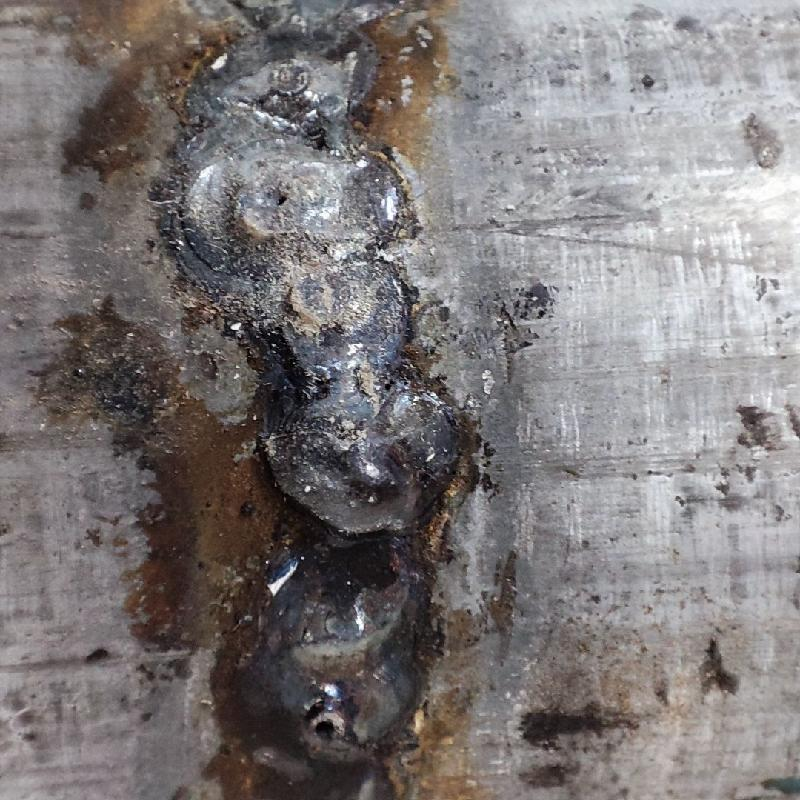Not_fully_soldered: (198, 3, 450, 524)
Surface_pores: (251, 169, 308, 235), (296, 695, 354, 751)
wrong_size: (234, 525, 422, 792)
